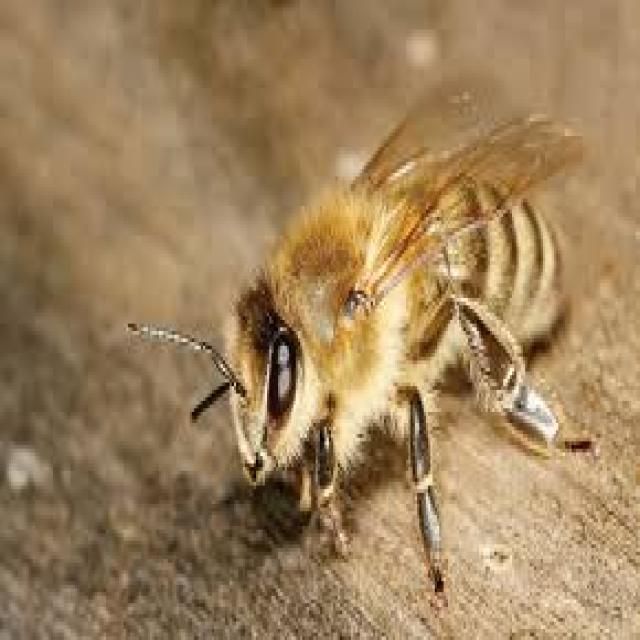Bees: (126, 83, 594, 595)
